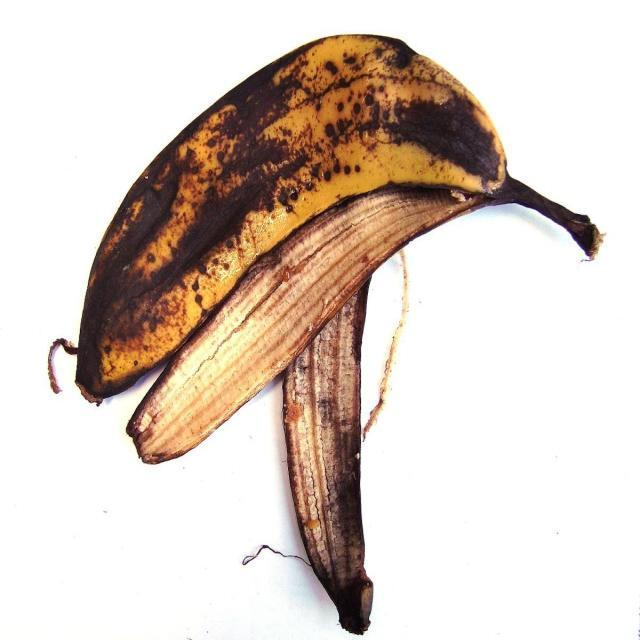banana-peel: (47, 31, 603, 633)
